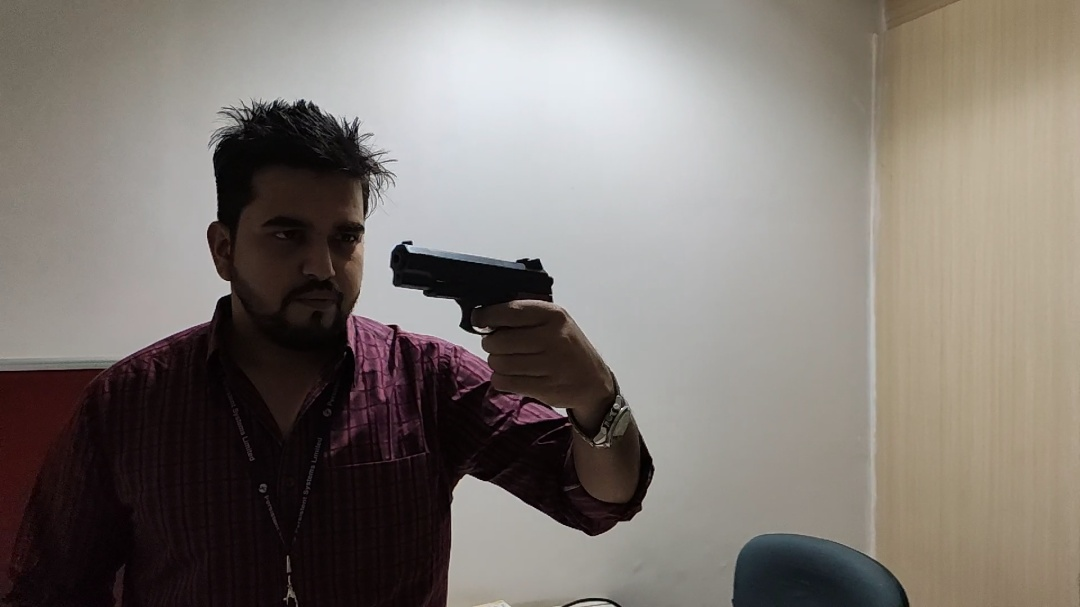gun: (387, 235, 569, 401)
